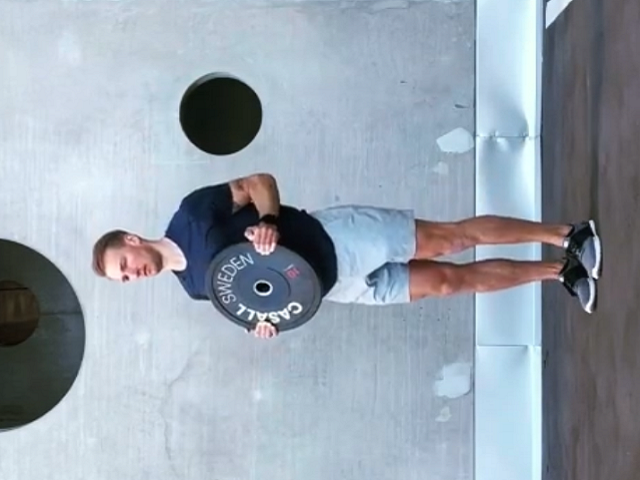weights: (201, 235, 325, 333)
